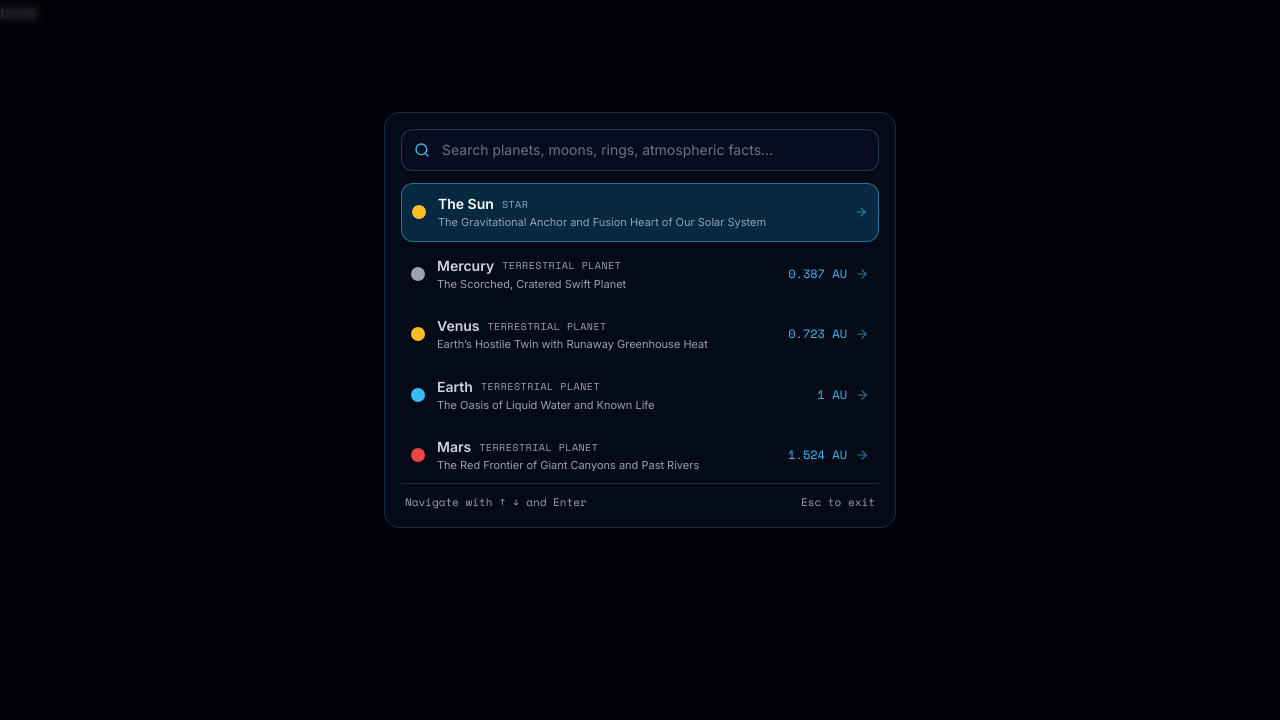
it: PlanetSearchModal Component › filters results dynamically based on user query
In the field with placeholder "Search planets, moons, rings, atmospheric facts...": x=654, y=150 [442, 140, 866, 160], type "saturn"
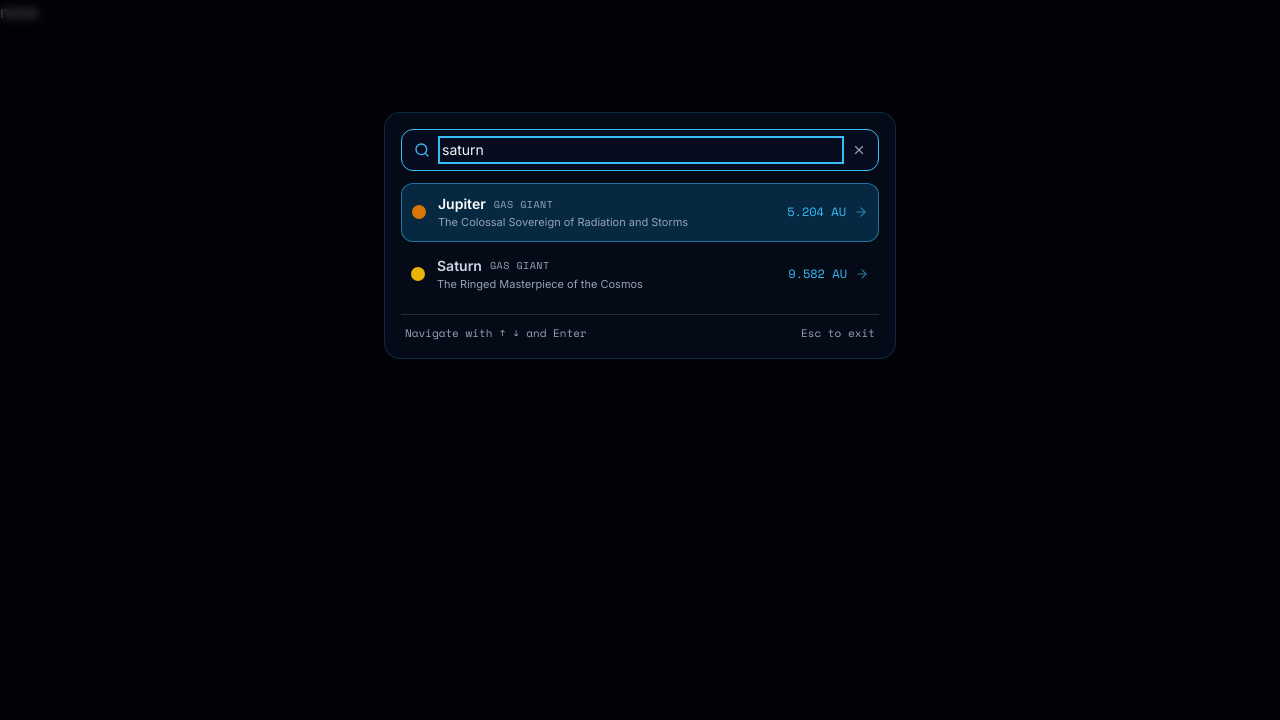
Now the text "Saturn" is shown, box [437, 256, 482, 276]
Now the text "Mercury" is gone
